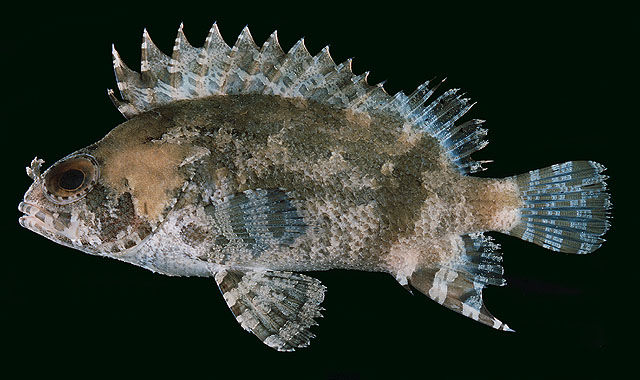fish: (18, 22, 615, 353)
